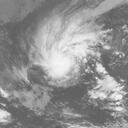cyclone: (40, 36, 79, 80)
